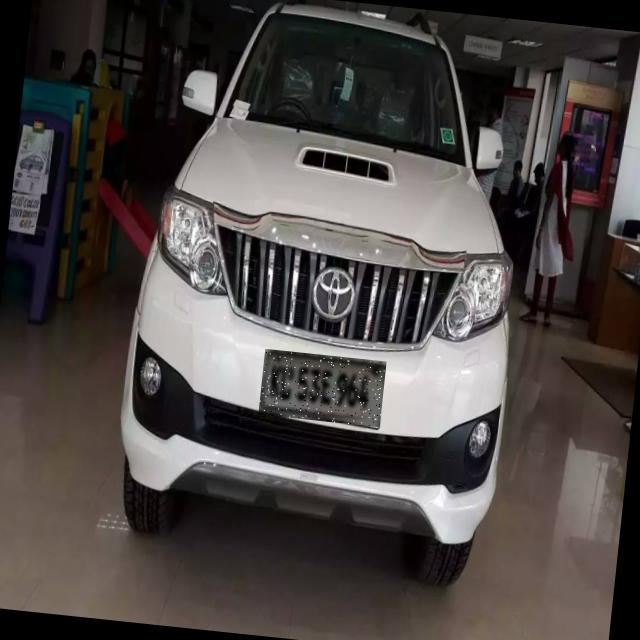Plate: (259, 350, 387, 428)
